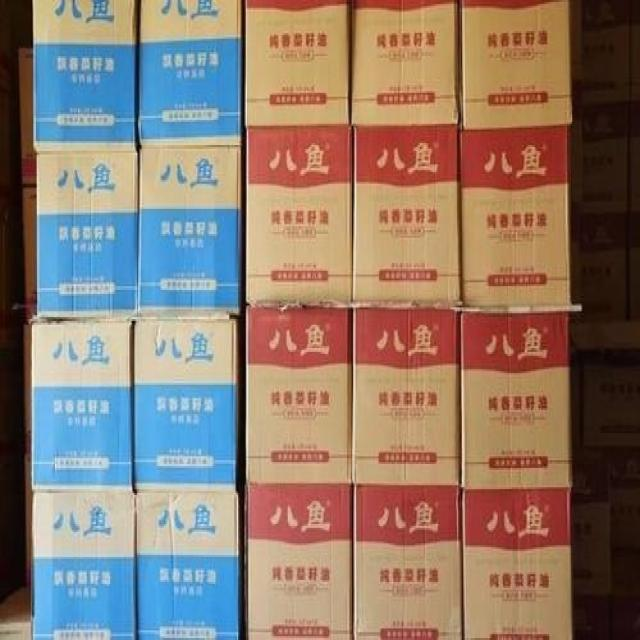box: (460, 128, 572, 307), (462, 307, 572, 487), (352, 126, 461, 304), (352, 307, 460, 485), (244, 305, 352, 481), (246, 126, 351, 305), (138, 147, 243, 317), (134, 317, 237, 489), (31, 319, 133, 489), (352, 483, 462, 640), (37, 153, 138, 321), (244, 483, 352, 640), (462, 489, 571, 640), (33, 0, 136, 151), (134, 491, 238, 640), (138, 0, 242, 147), (32, 491, 134, 640), (460, 0, 573, 130), (351, 0, 460, 124), (244, 0, 349, 126)
